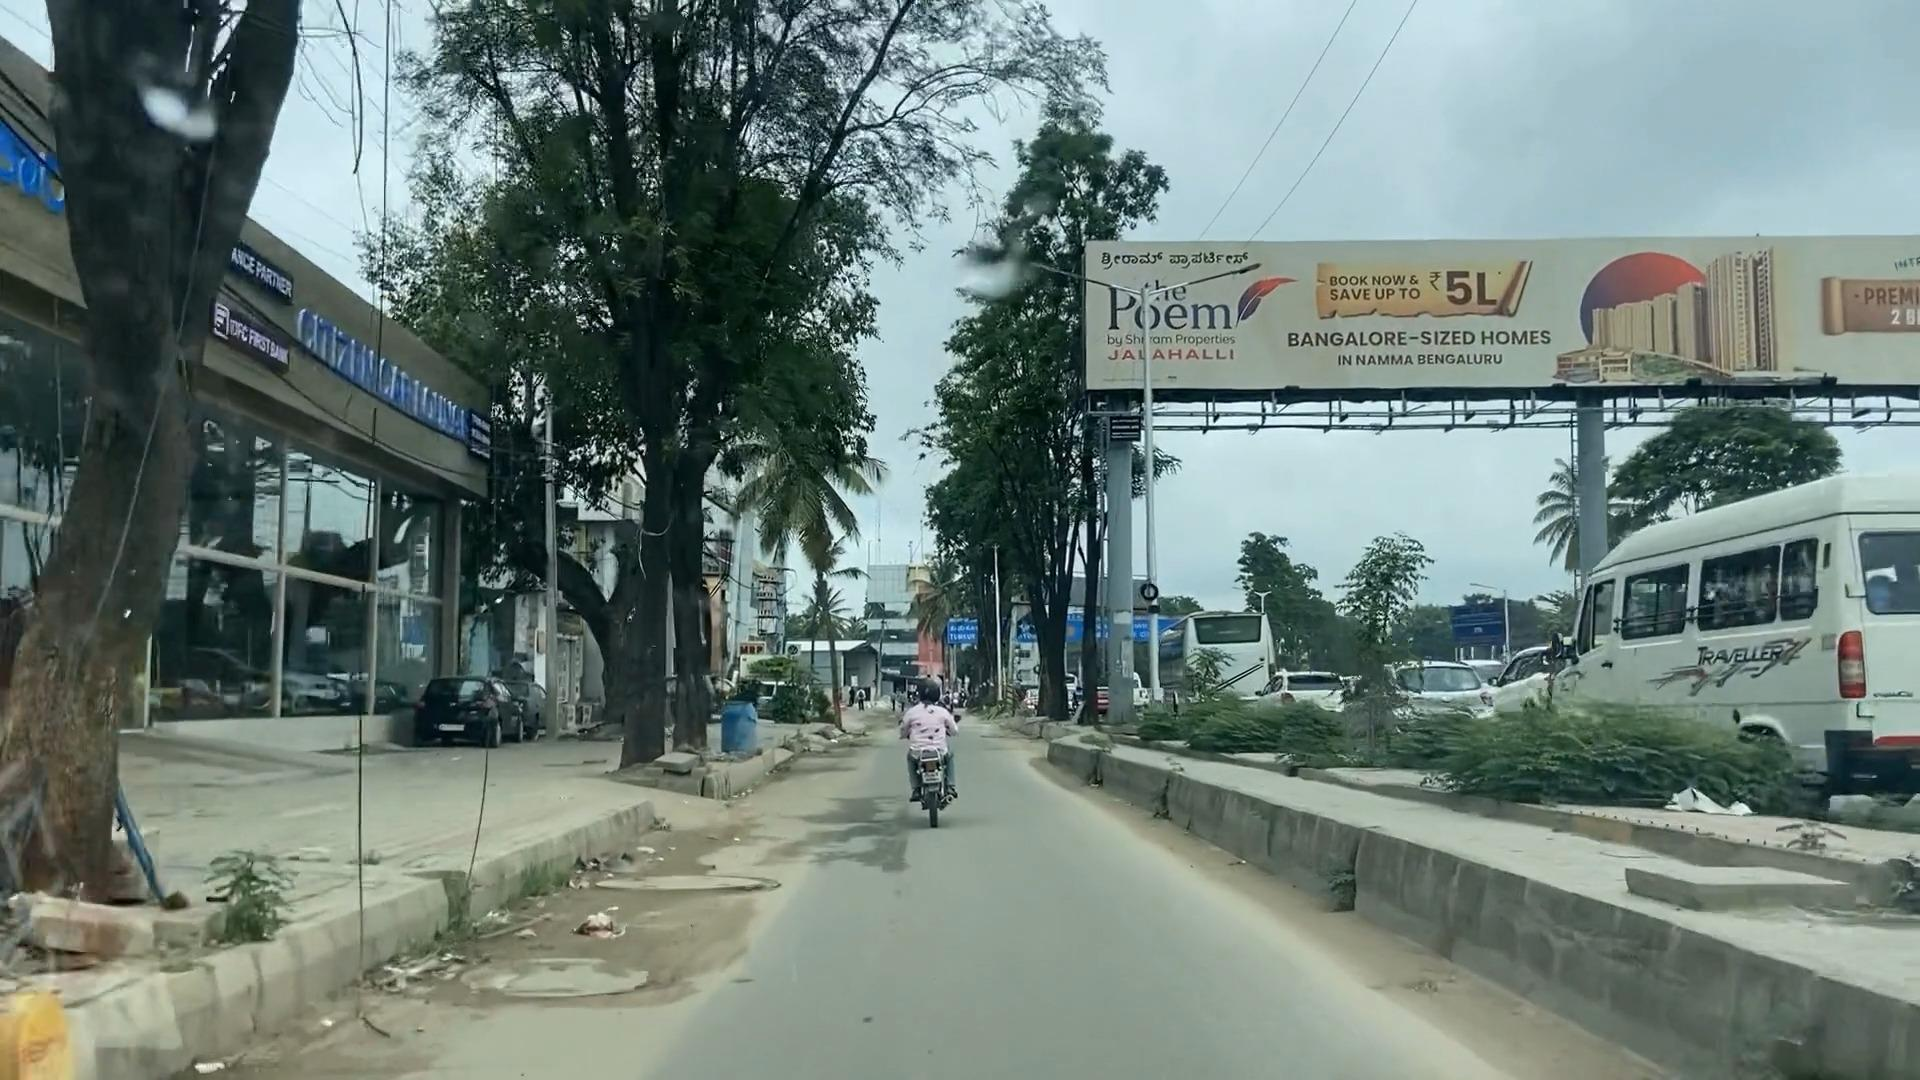RoadDamages: (413, 940, 709, 1025), (538, 836, 807, 924)
